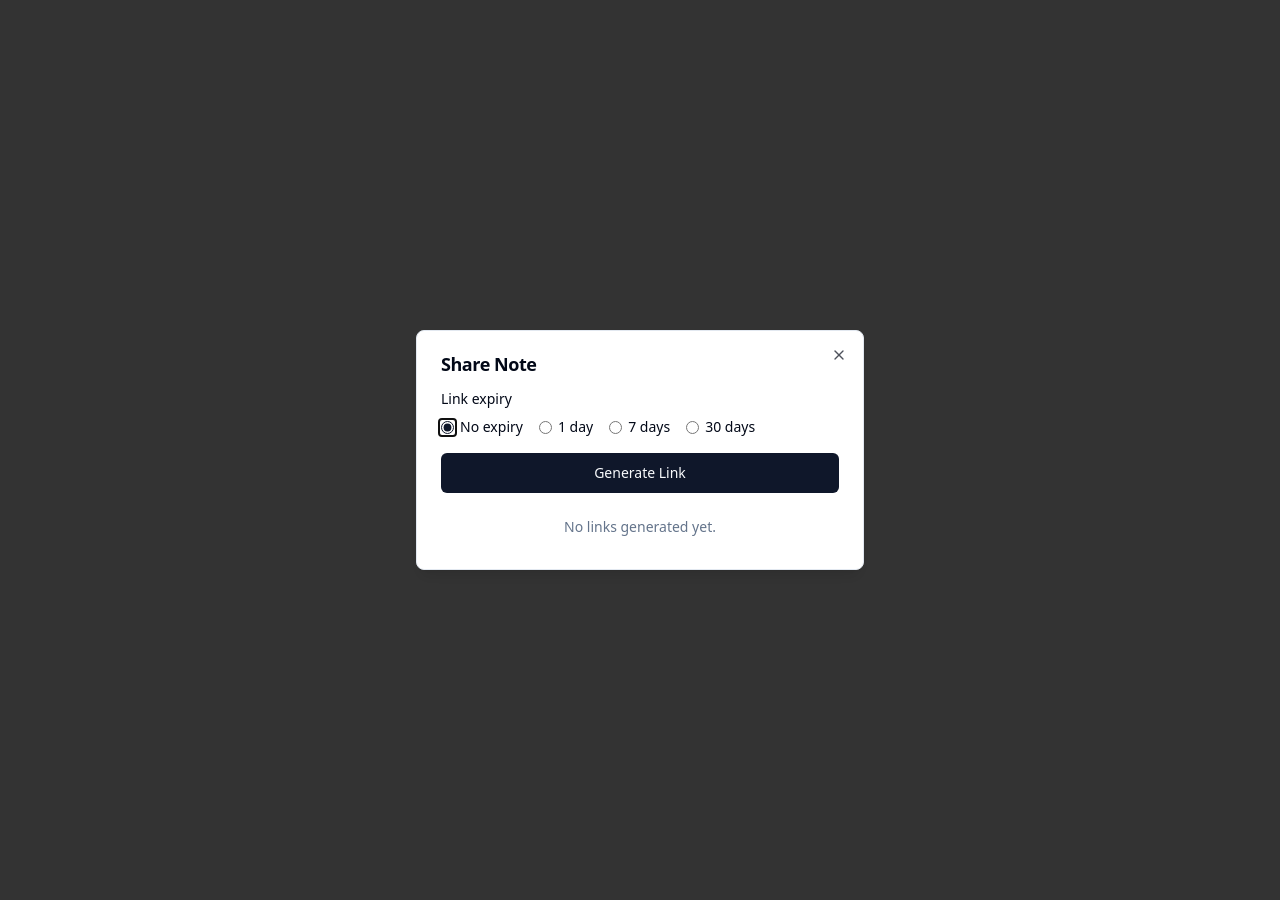
Test: ShareModal › shows the new link URL in the active-links list after successful generation
Click the button "Generate Link". click: {"x": 640, "y": 473}
box: [441,453,839,493]
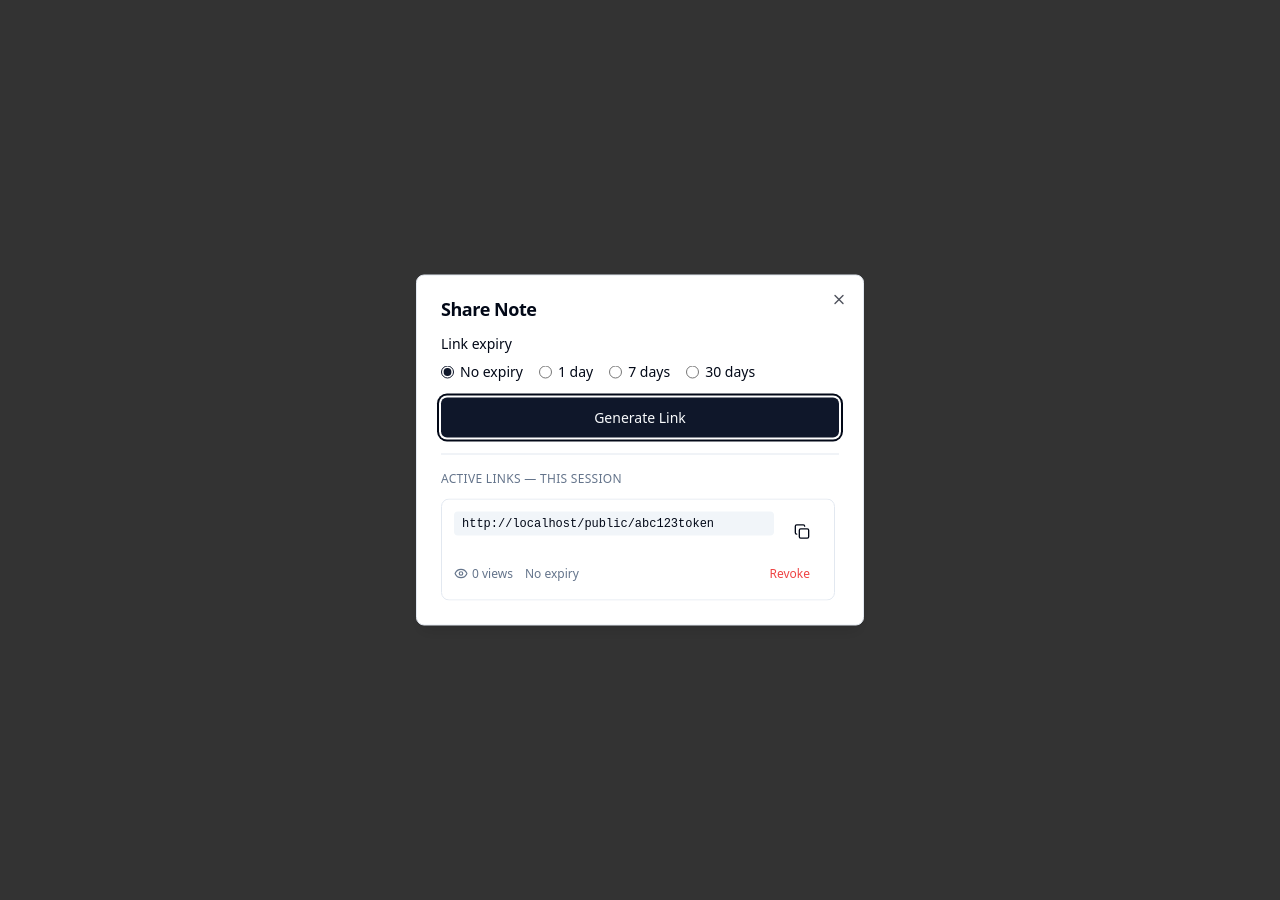
Check: the text "abc123token" is shown, box [462,516,714,530]
